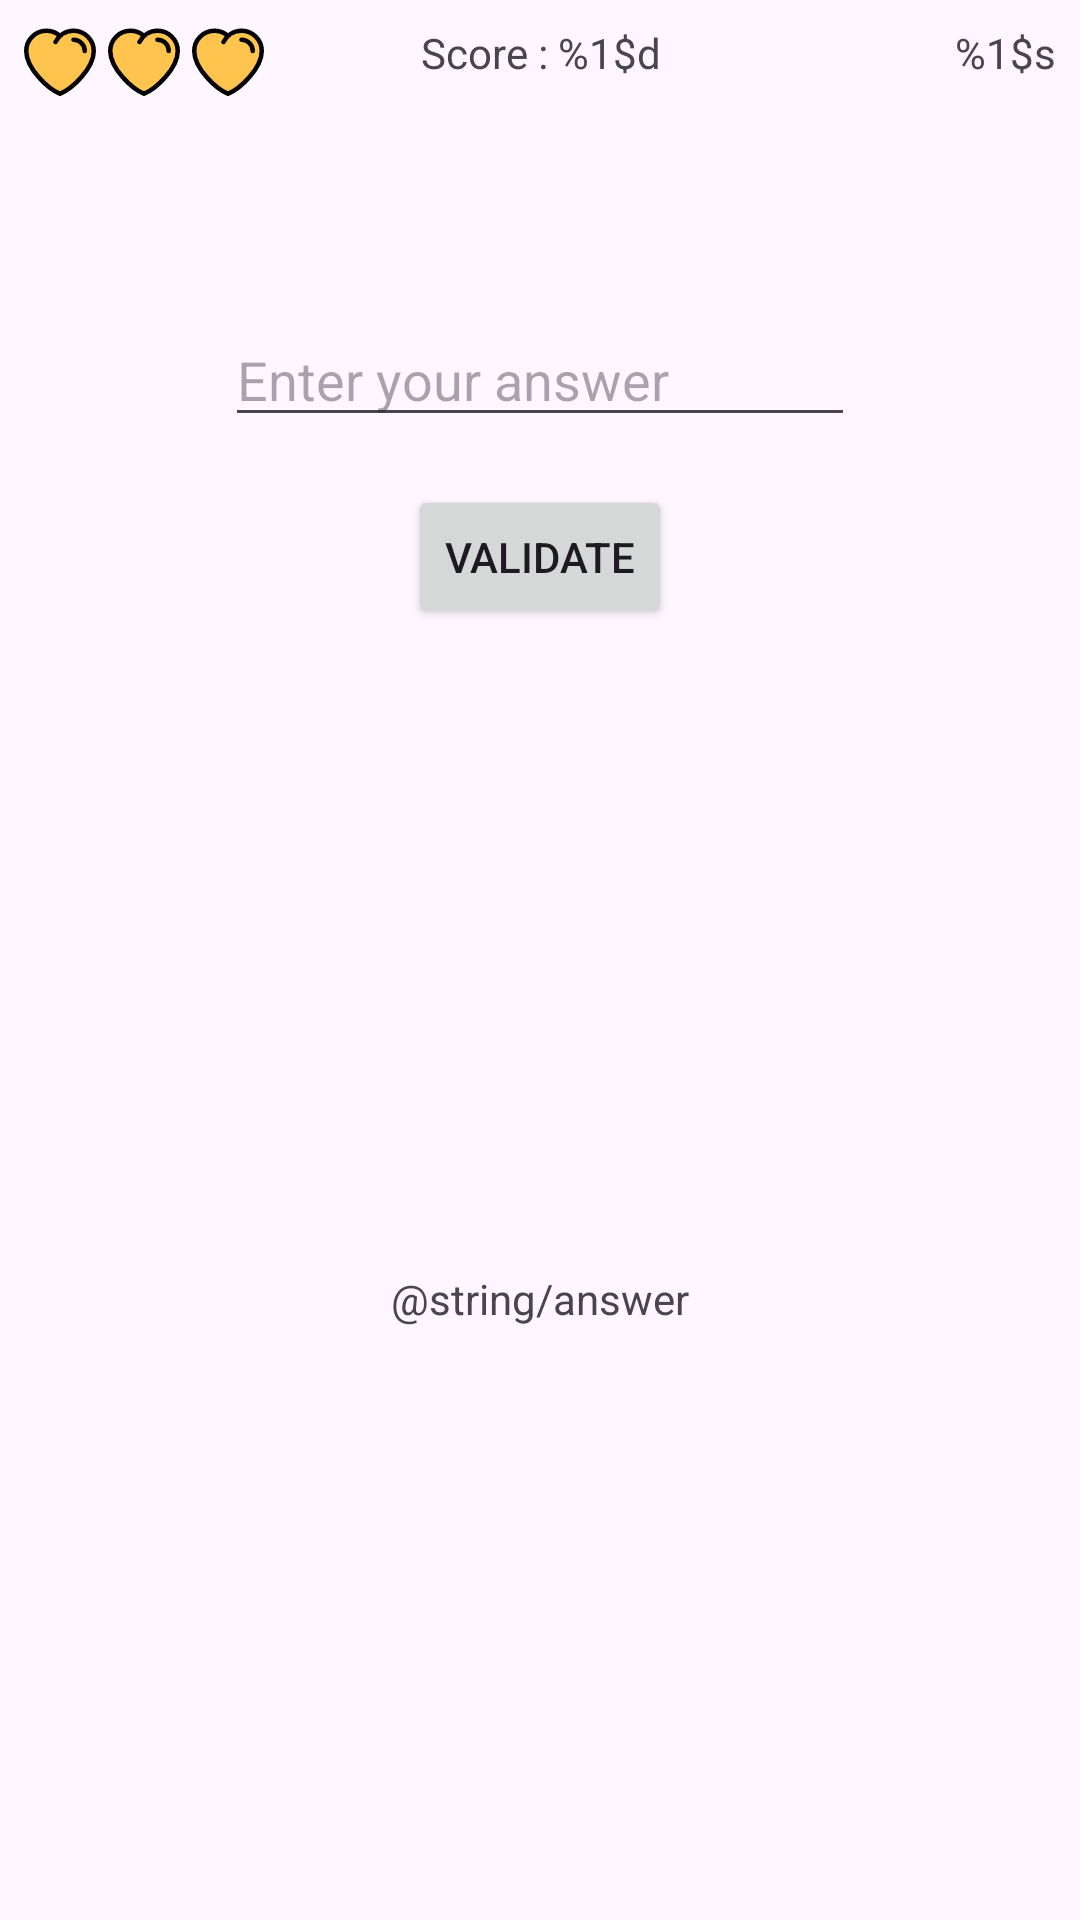

Icons on this 1080×1920 Android screen, each with its box as (x1, y1, x2, y2):
heart full: (24, 28, 96, 96), (108, 28, 180, 96), (192, 28, 264, 96)
